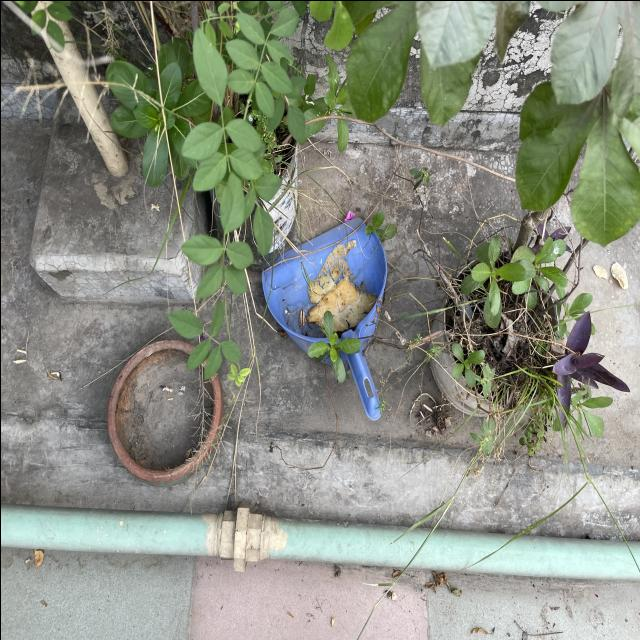Breeding Place: (246, 216, 387, 418), (426, 264, 572, 420), (105, 337, 221, 481)
